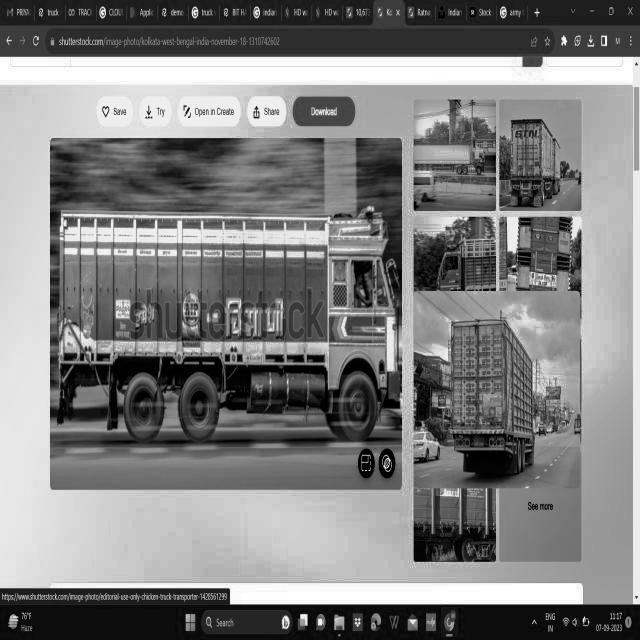HCV: (57, 194, 402, 461)
